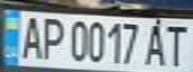0: (66, 17, 90, 62), (87, 18, 106, 64)
1: (103, 19, 124, 64)
7: (121, 19, 142, 65)
A: (15, 12, 45, 61), (142, 20, 172, 68)
P: (36, 14, 66, 61)
T: (163, 20, 190, 68)
